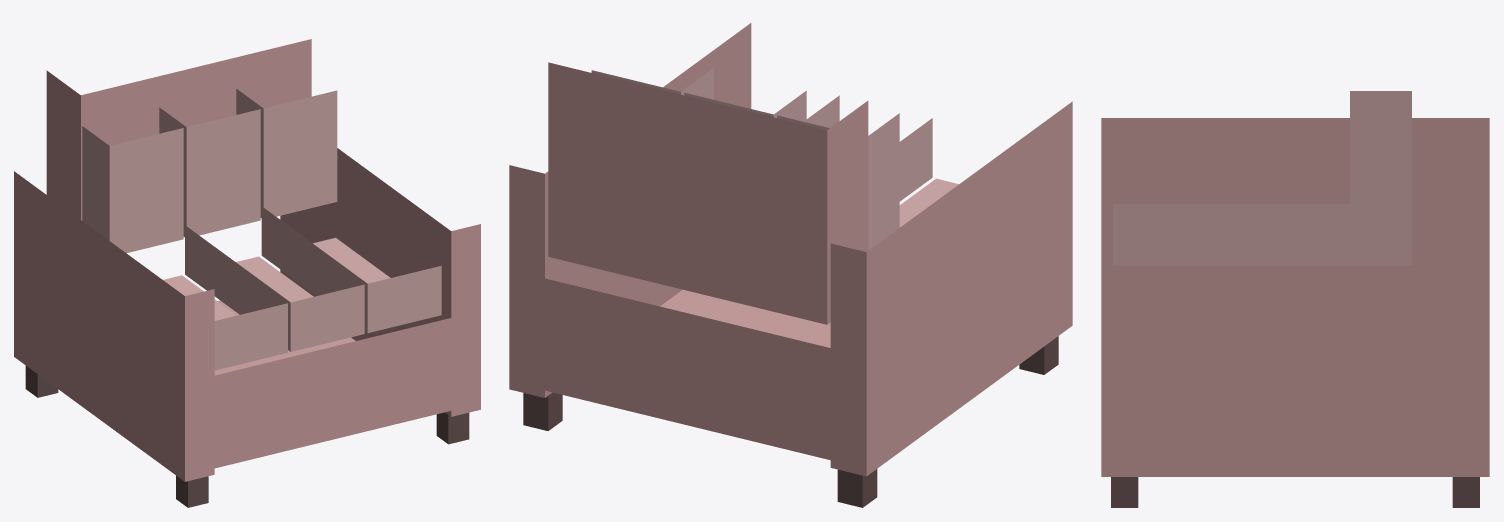
File: Sofa-pink.glb
3 views of the same model, side by side, from view 1: azimuth 30°, elevation 25°; view 2: azimuth 150°, elevation 25°; view 3: azimuth 270°, elevation 25° (orthographic). The views are drawn at different scales.
Visible parts, largest first — view 1: Sofa; view 2: Sofa; view 3: Sofa.
Part boxes in pixels (x1,y1,x2,y2): Sofa: (14, 39, 480, 507); Sofa: (509, 23, 1072, 507); Sofa: (1101, 91, 1489, 507).
Bounding box in the file's own units: 1 × 1 × 1.
